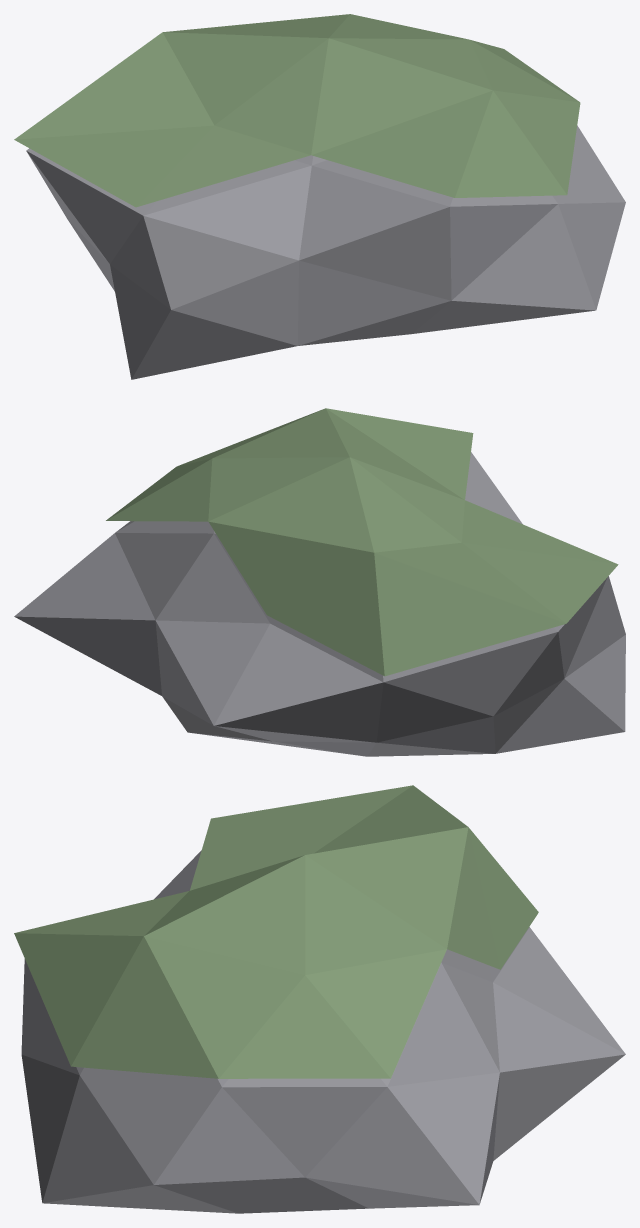
The model's file is Rock_Mossy.glb.
The picture shows the model from 3 angles, top to bottom: view 1: azimuth 30°, elevation 25°; view 2: azimuth 150°, elevation 25°; view 3: azimuth 270°, elevation 25°; orthographic projection. The views are drawn at different scales.
Visible parts, largest first — view 1: Rock, Moss; view 2: Rock, Moss; view 3: Moss, Rock.
Boxes of the visible parts, left/top/right/bottom form: Rock: left=26, top=125, right=625, bottom=379; Moss: left=14, top=14, right=580, bottom=207; Rock: left=14, top=452, right=625, bottom=756; Moss: left=106, top=408, right=618, bottom=676; Moss: left=14, top=785, right=538, bottom=1078; Rock: left=21, top=850, right=625, bottom=1213.
Bounding box in the file's own units: 6.88 × 3.1 × 5.9.
